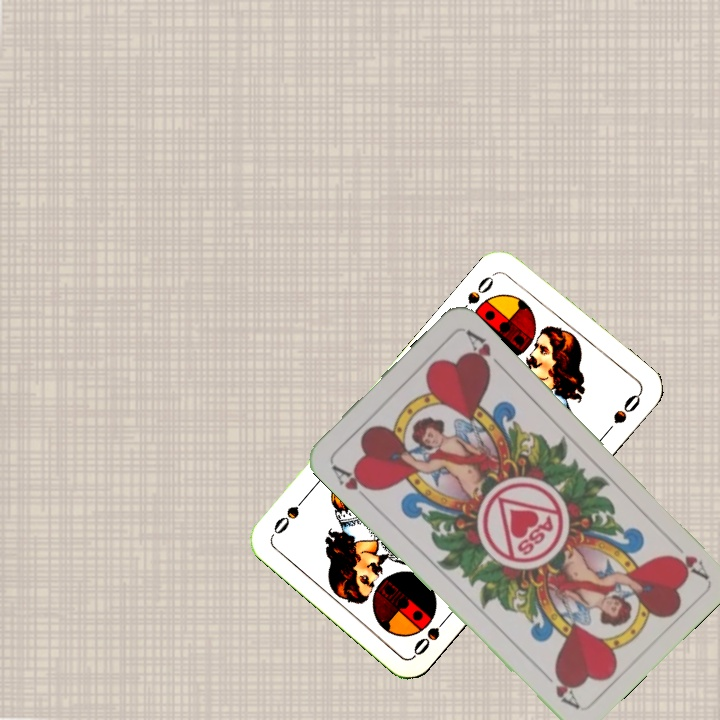HA: (664, 533, 710, 581), (328, 460, 378, 494)
SO: (409, 610, 454, 658), (463, 268, 500, 307)
